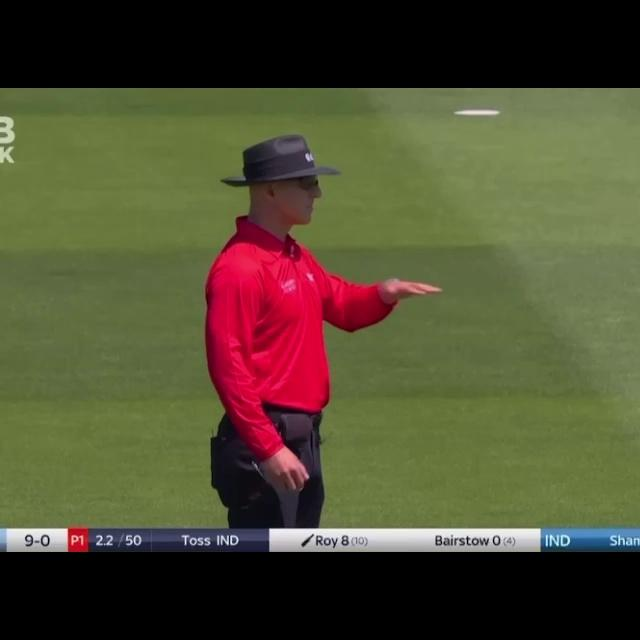umpire: (182, 119, 435, 540)
